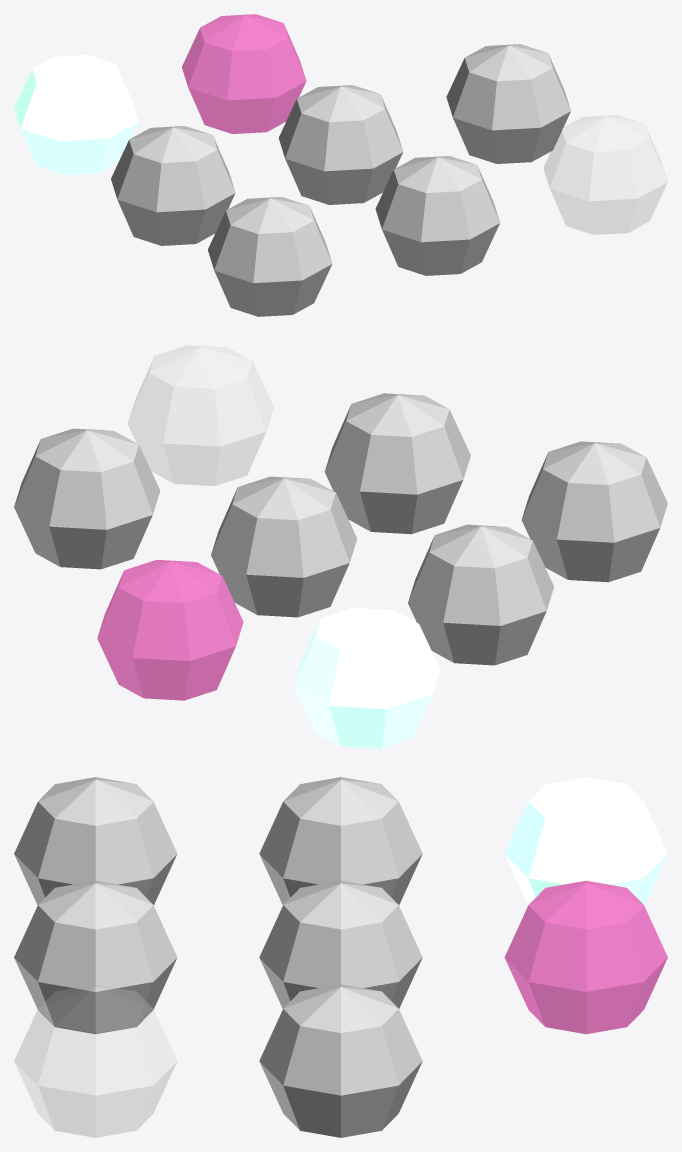
Rendered from material_library.out_library_rt.glb.
3 renders of one model, top to bottom at view 1: azimuth 30°, elevation 25°; view 2: azimuth 150°, elevation 25°; view 3: azimuth 270°, elevation 25°, orthographic. The views are drawn at different scales.
Visible parts, largest first — view 1: S_Sheen, S_Aniso, S_Coat, S_Glow, S_Film, S_Flat, S_Spec, S_Glass; view 2: S_Aniso, S_Flat, S_Glow, S_Film, S_Spec, S_Coat, S_Sheen, S_Glass; view 3: S_Flat, S_Sheen, S_Aniso, S_Glass, S_Film, S_Coat, S_Glow, S_Spec.
Part boxes in pixels (bbox=[...]): S_Sheen: bbox=[375, 156, 499, 275]; S_Aniso: bbox=[446, 44, 570, 163]; S_Coat: bbox=[208, 197, 332, 316]; S_Glow: bbox=[14, 55, 138, 174]; S_Film: bbox=[278, 85, 403, 204]; S_Flat: bbox=[182, 14, 306, 133]; S_Spec: bbox=[111, 126, 235, 245]; S_Glass: bbox=[544, 115, 667, 234]; S_Aniso: bbox=[14, 428, 160, 569]; S_Flat: bbox=[97, 559, 243, 700]; S_Glow: bbox=[294, 608, 440, 748]; S_Film: bbox=[211, 476, 357, 617]; S_Spec: bbox=[408, 524, 554, 665]; S_Coat: bbox=[521, 441, 667, 582]; S_Sheen: bbox=[324, 393, 470, 534]; S_Glass: bbox=[128, 345, 273, 485]; S_Flat: bbox=[504, 880, 667, 1034]; S_Sheen: bbox=[14, 880, 177, 1034]; S_Aniso: bbox=[259, 984, 422, 1137]; S_Glass: bbox=[14, 984, 176, 1137]; S_Film: bbox=[259, 880, 422, 1008]; S_Coat: bbox=[14, 777, 177, 905]; S_Glow: bbox=[504, 777, 667, 905]; S_Spec: bbox=[259, 777, 422, 904].
Size of the model in its own units: 8 by 2 by 8.
